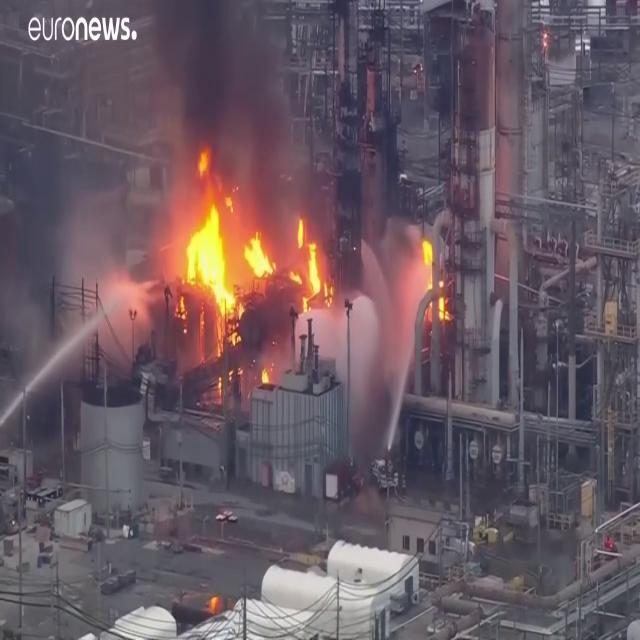Fire: (169, 162, 333, 337), (416, 231, 450, 325)
Smoke: (144, 0, 318, 217)
